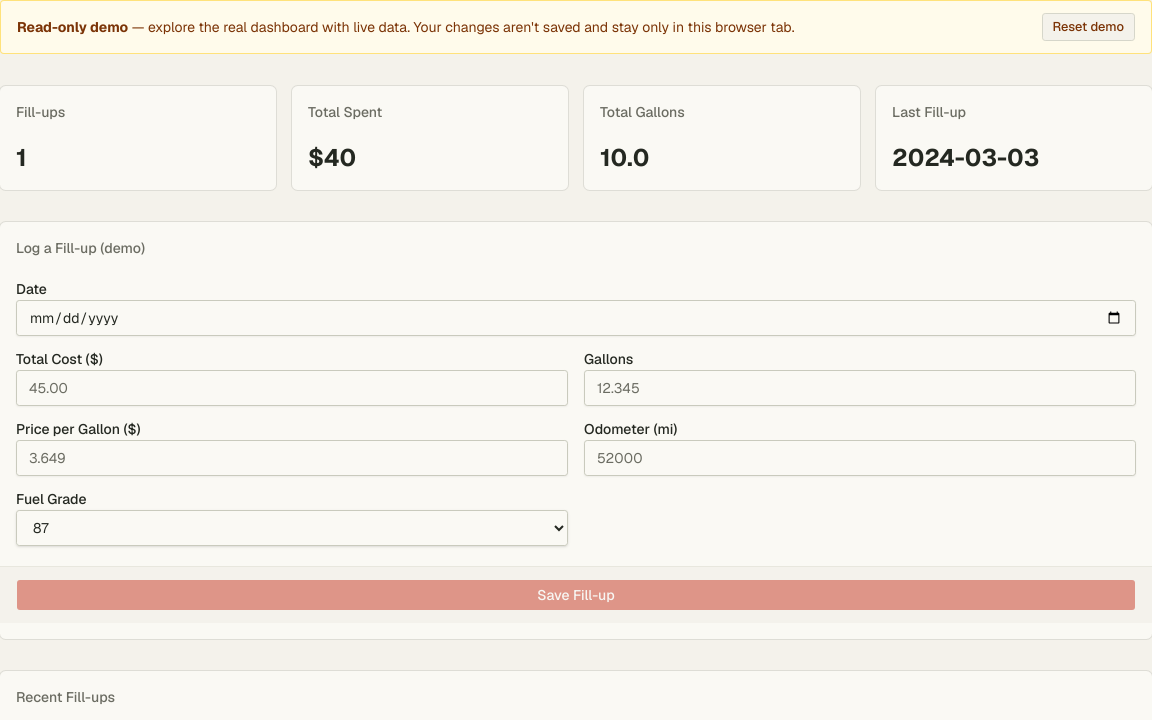
Test: DemoDashboard › adding a fill-up writes to the sandbox, not the server, and discards location (G-17/G-18/G-23)
In the date field labelled "Date": [576, 318] box [16, 300, 1136, 336], type "2026-06-15"
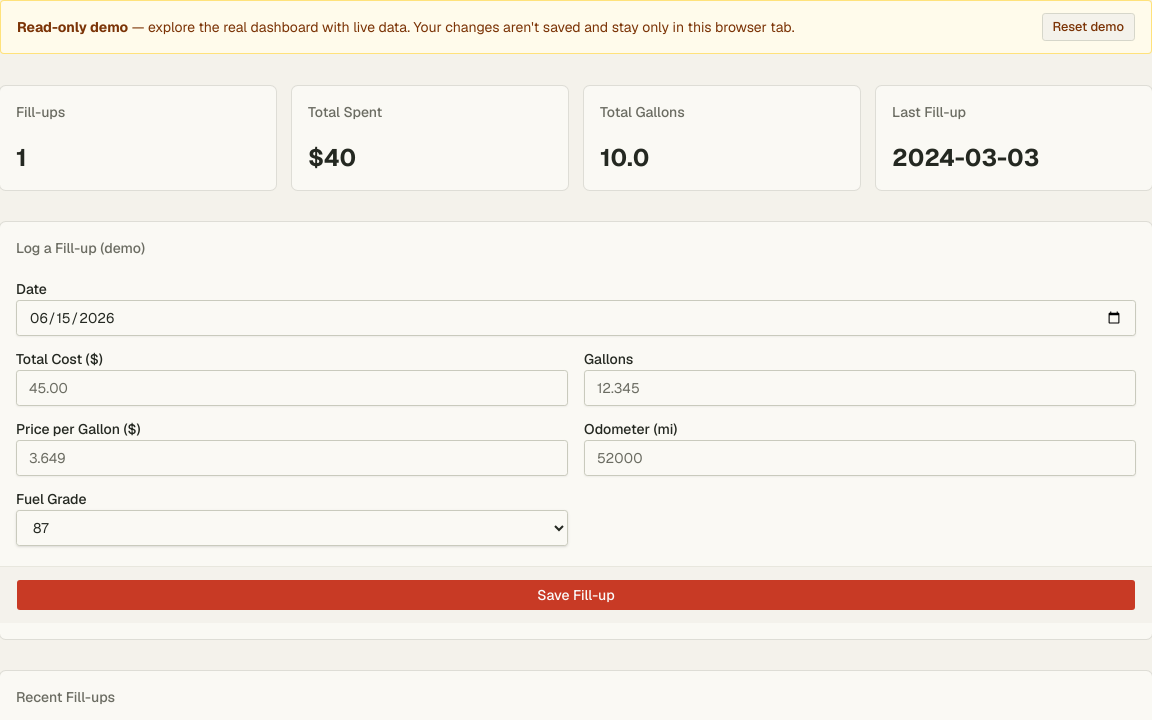
Click the button "Save Fill-up": [576, 595] box [16, 579, 1136, 611]
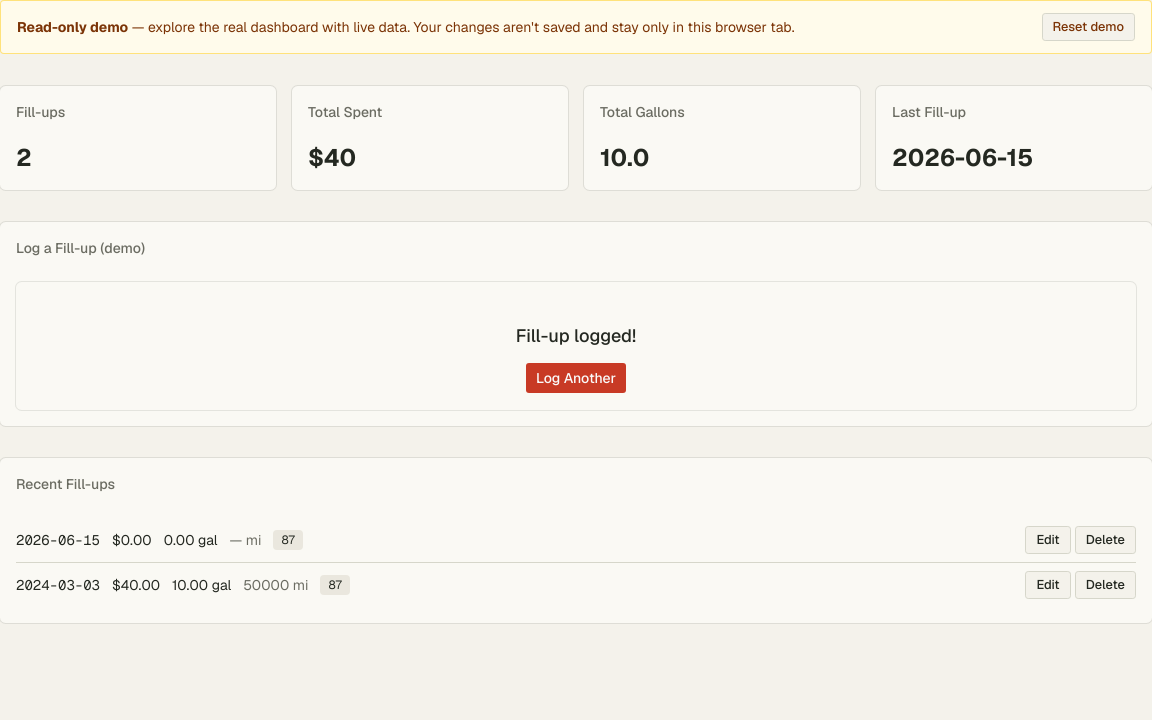
Check: the text "2026-06-15" below "Last Fill-up" is shown, box [892, 142, 1033, 173]
